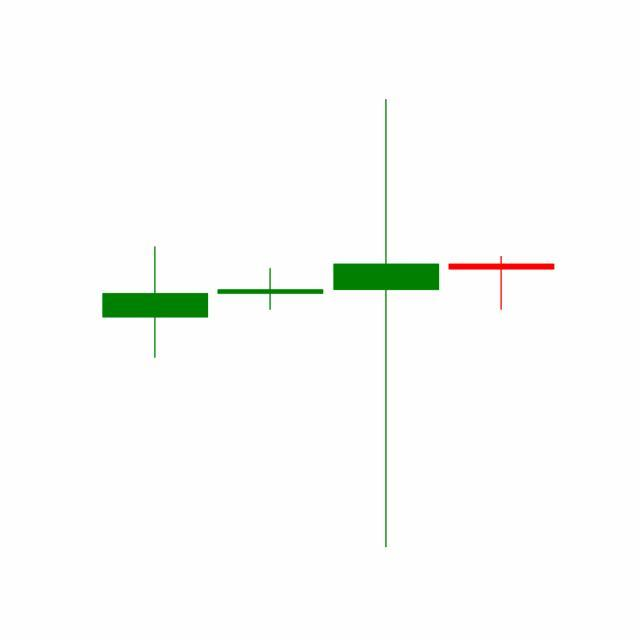Dragonfly Doji: (444, 256, 560, 312)
